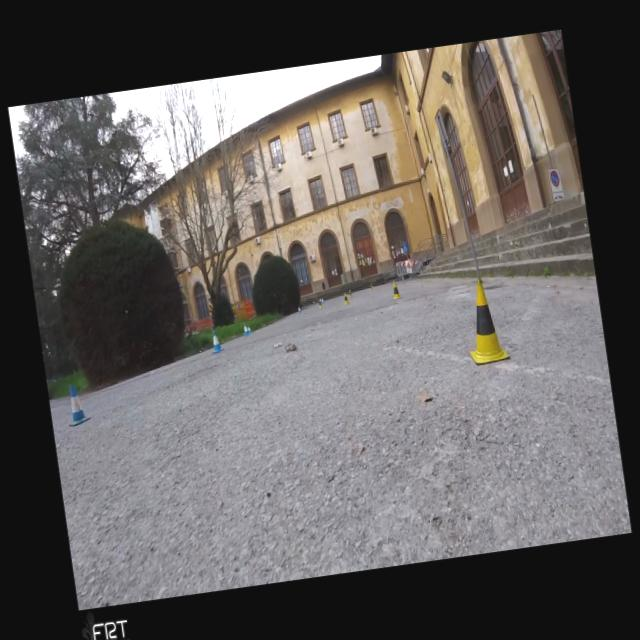blue_cone: (64, 382, 92, 427), (209, 329, 225, 354), (243, 323, 249, 336), (247, 325, 251, 335), (298, 306, 302, 313), (322, 298, 324, 304)
yellow_cone: (460, 278, 511, 365), (390, 280, 402, 300), (342, 292, 350, 306), (318, 299, 322, 309), (348, 289, 352, 298), (369, 284, 374, 291)
